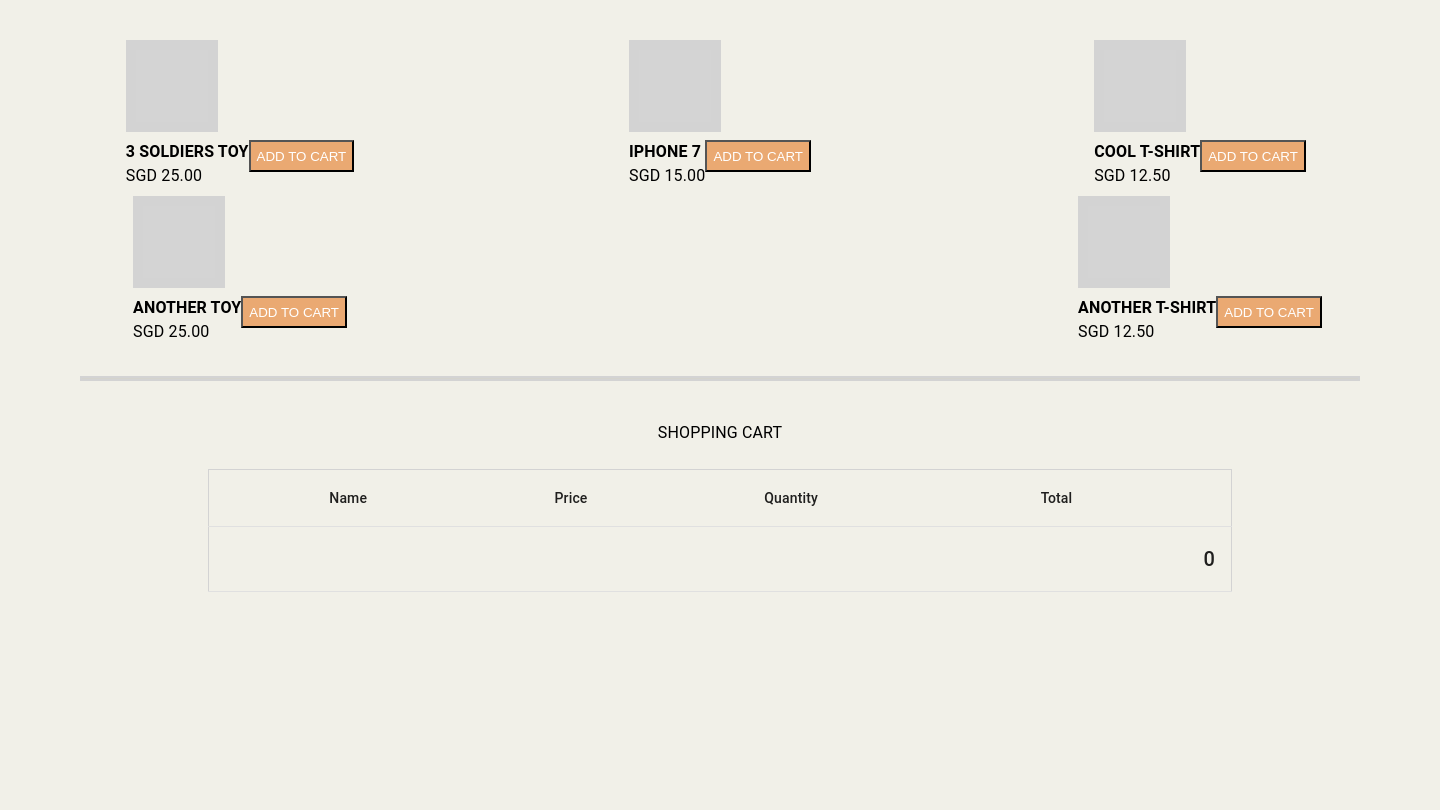
Test: Main › Expect item to disappear when remove clicked
Click the button "ADD TO CART" next to "3 SOLDIERS TOY": (301, 156) x1=249 y1=140 x2=354 y2=172
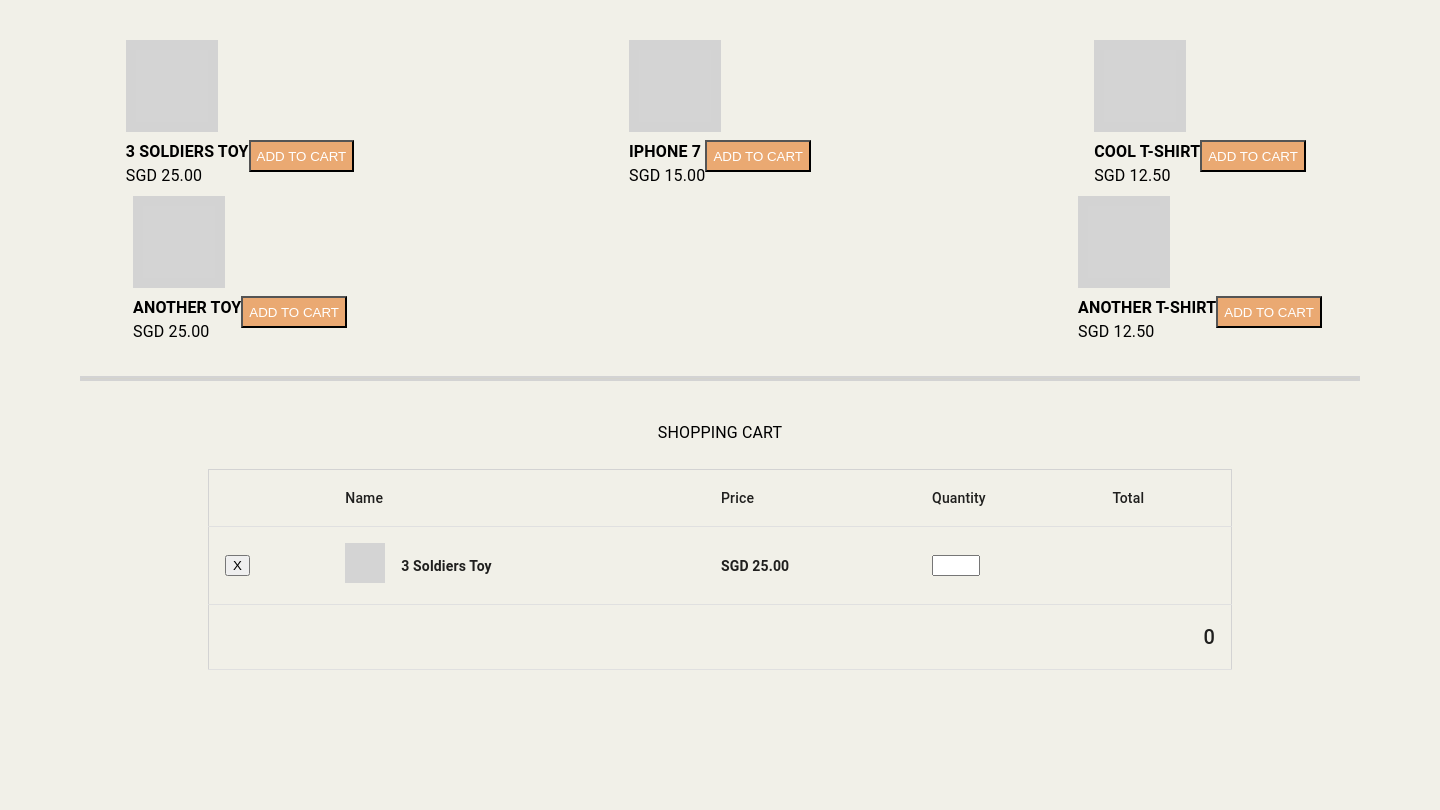
Result: the field with test id "qty-0" is shown at x1=932 y1=555 x2=980 y2=576
Click the button with test id "button-0": (237, 566) x1=225 y1=555 x2=250 y2=576
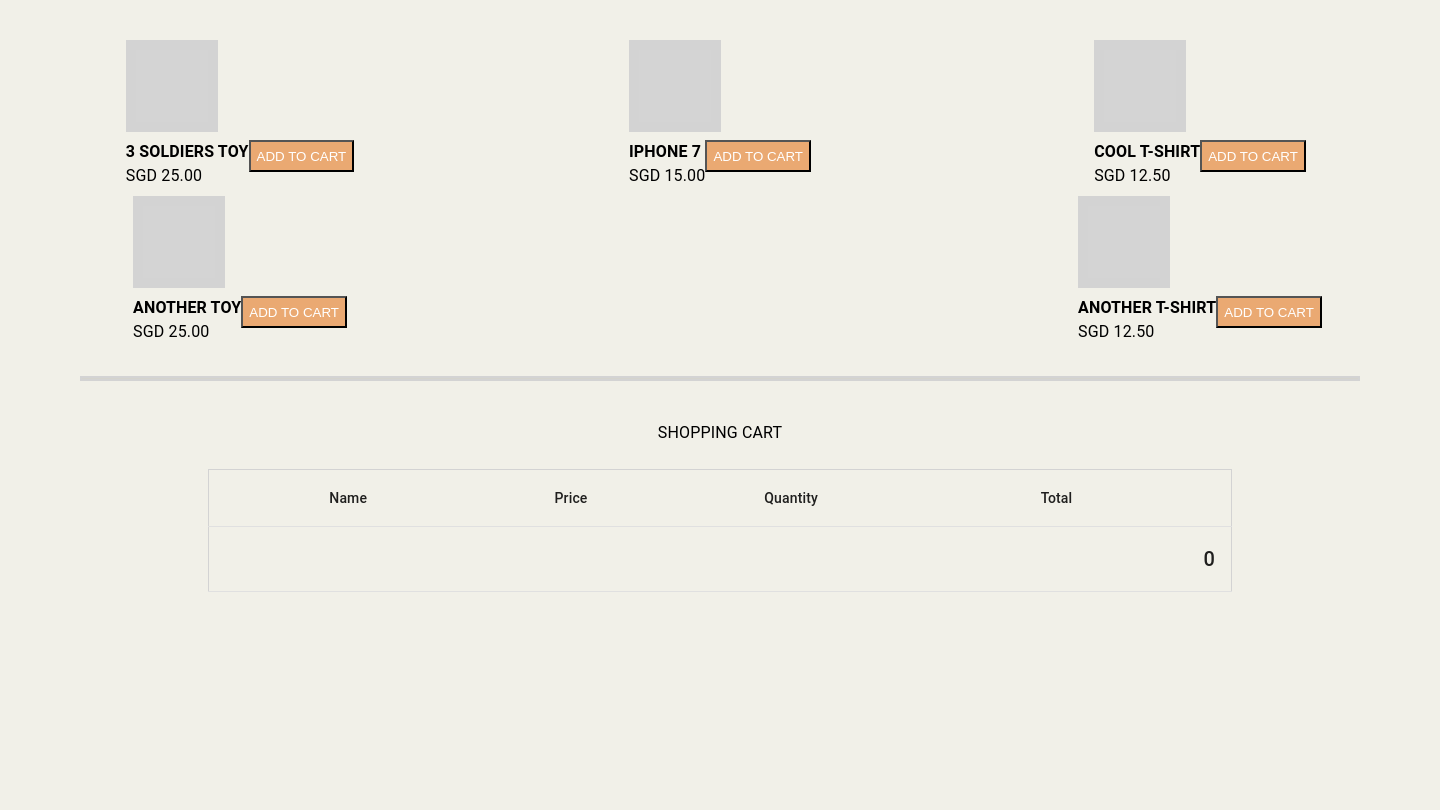
Result: the button "X" is gone
